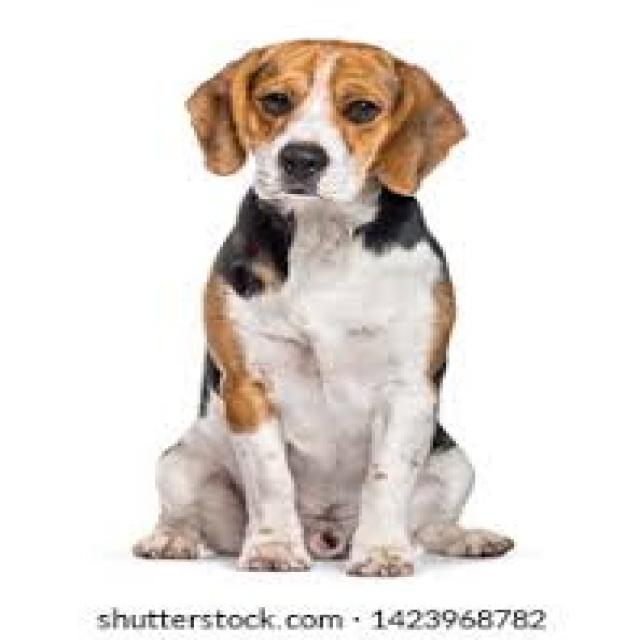Dog: (126, 36, 520, 584)
